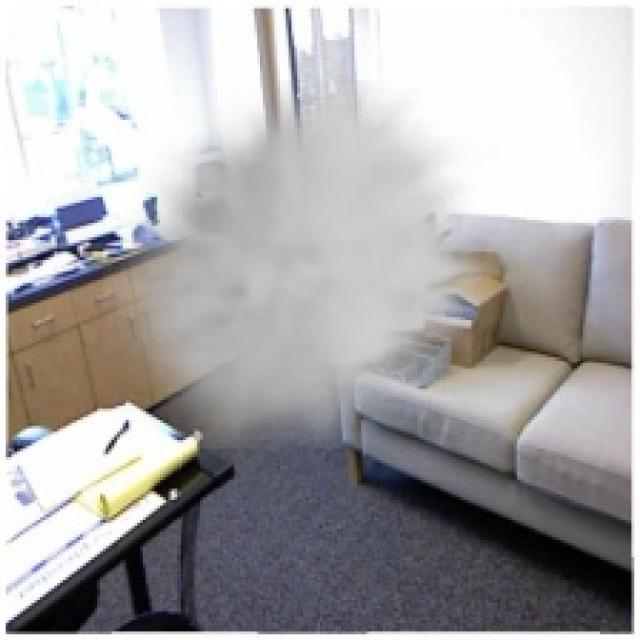smoke: (103, 80, 500, 449)
